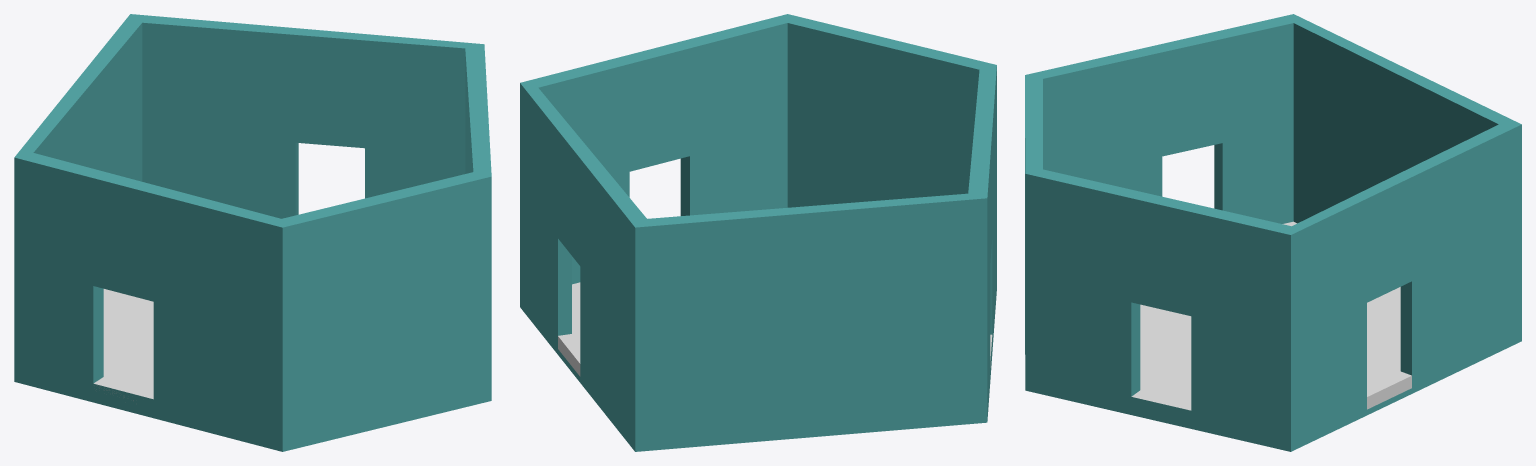
3 views of the same model, side by side, from view 1: azimuth 30°, elevation 25°; view 2: azimuth 150°, elevation 25°; view 3: azimuth 270°, elevation 25° (orthographic). The views are drawn at different scales.
Visible parts, largest first — view 1: Sala 8, Sala 8.001; view 2: Sala 8, Sala 8.001; view 3: Sala 8, Sala 8.001.
Part boxes in pixels (bbox=[...]): Sala 8: bbox=[14, 14, 491, 451]; Sala 8.001: bbox=[93, 289, 153, 400]; Sala 8: bbox=[520, 14, 996, 451]; Sala 8.001: bbox=[558, 282, 992, 376]; Sala 8: bbox=[1025, 14, 1521, 451]; Sala 8.001: bbox=[1131, 221, 1411, 410].
Bounding box in the file's own units: 5295 × 2422 × 5028.
